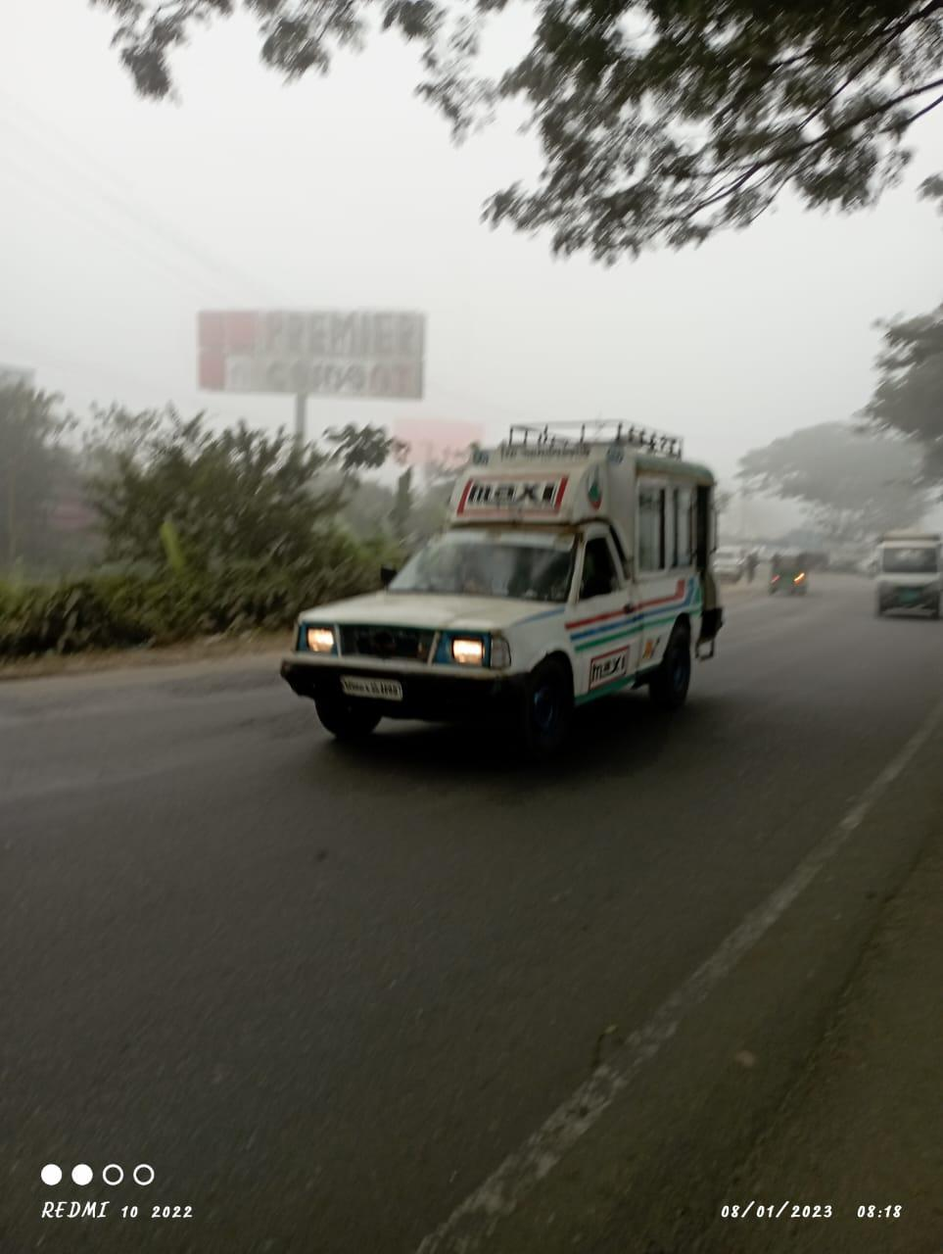Car: (267, 410, 723, 751), (863, 525, 943, 635)
